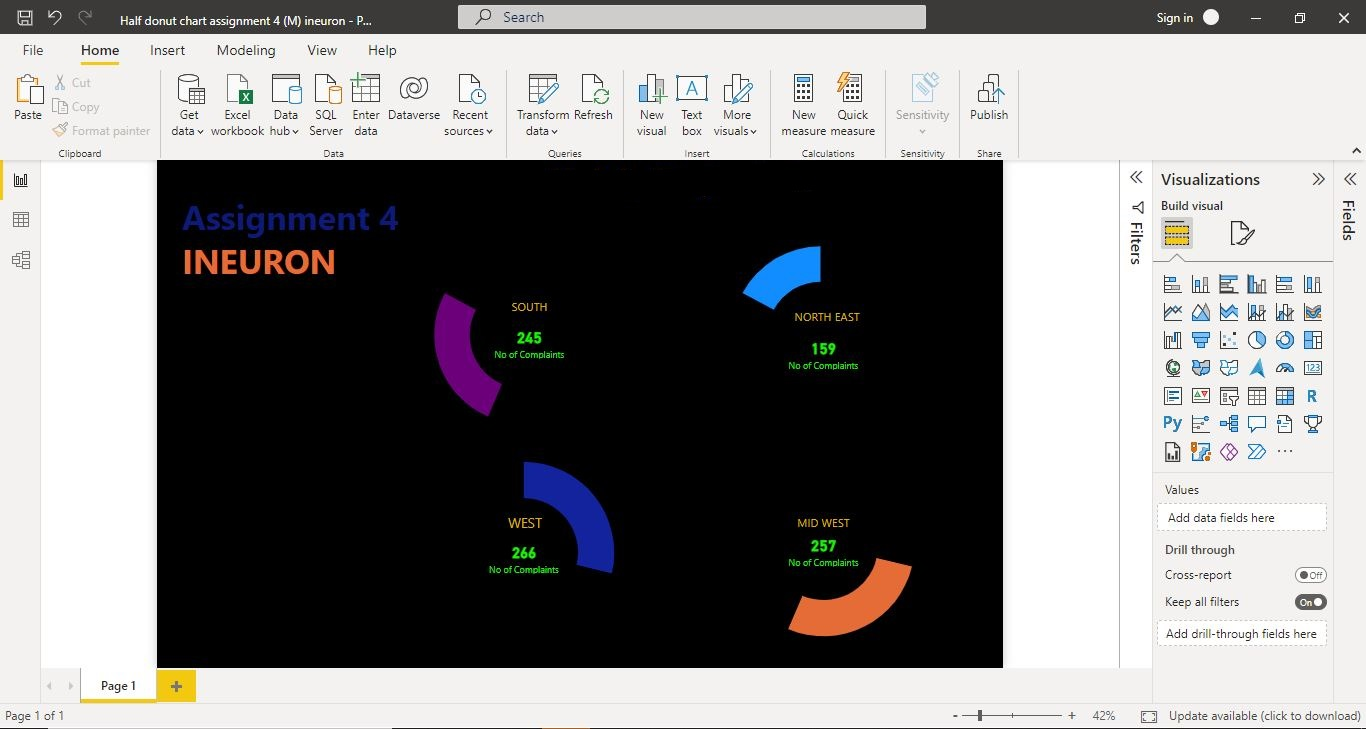

The page's visual inventory and layout, read from the dashboard file:
{"tool":"powerbi","page":{"name":"Page 1","canvas":[2000,1200],"ordinal":0},"visuals":[{"type":"donutChart","fields":{"Y":["CountNonNull(Complains Data.ID)"],"Category":["StateRegions_Tbl.Region"]},"box":[1164.6,146.5,805.5,533.9],"z":0},{"type":"donutChart","fields":{"Y":["CountNonNull(Complains Data.ID)"],"Category":["StateRegions_Tbl.Region"]},"box":[559.8,654.3,611.8,545.7],"z":1000},{"type":"donutChart","fields":{"Y":["CountNonNull(Complains Data.ID)"],"Category":["StateRegions_Tbl.Region"]},"box":[1171.7,637.8,805.5,545.7],"z":2000},{"type":"donutChart","fields":{"Y":["CountNonNull(Complains Data.ID)"],"Category":["StateRegions_Tbl.Region"]},"box":[559.8,146.5,609.4,533.9],"z":3000},{"type":"shape","box":[1396.1,810.2,78,47.2],"z":4000},{"type":"textbox","box":[784.3,323.6,191.3,63.8],"z":5000},{"type":"card","fields":{"Values":["Complains Data.No of Complaints"]},"box":[784.3,387.4,191.3,87.4],"z":6000},{"type":"card","fields":{"Values":["Complains Data.No of Complaints"]},"box":[1466.9,878.7,215,87.4],"z":7000},{"type":"card","fields":{"Values":["Complains Data.No of Complaints"]},"box":[758.3,895.3,217.3,87.4],"z":8000},{"type":"textbox","box":[784.3,829.1,170.1,82.7],"z":9000},{"type":"textbox","box":[1457.5,833.9,233.9,61.4],"z":10000},{"type":"textbox","box":[1497.6,347.2,170.1,63.8],"z":11000},{"type":"shape","box":[1396.1,474.8,103.9,82.7],"z":12000},{"type":"shape","box":[758.3,1058.3,78,42.5],"z":13000},{"type":"shape","box":[640.2,777.2,118.1,101.6],"z":14000},{"type":"shape","box":[1379.5,807.9,78,47.2],"z":15000},{"type":"shape","box":[1523.6,680.3,103.9,113.4],"z":16000},{"type":"shape","box":[975.6,413.4,103.9,82.7],"z":18000},{"type":"shape","box":[718.1,1032.3,148.8,118.1],"z":19000},{"type":"shape","box":[1459.8,517.3,78,103.9],"z":20000},{"type":"card","fields":{"Values":["Complains Data.No of Complaints"]},"box":[1478.7,413.4,191.3,87.4],"z":21000},{"type":"shape","box":[1681.9,413.4,108.7,89.8],"z":22000},{"type":"textbox","box":[54.3,73.2,536.2,463],"z":23000}]}

Visuals, with their boxes on the page's 2000x1200 design canvas (x1, y1, x2, y2). These are canvas units, not pixel positions in the 1366x729 screenshot, which may show the page scaled, cropped or inside an application window:
donutChart - CountNonNull(Complains Data.ID) x StateRegions_Tbl.Region: (1165,146,1970,680)
donutChart - CountNonNull(Complains Data.ID) x StateRegions_Tbl.Region: (560,654,1172,1200)
donutChart - CountNonNull(Complains Data.ID) x StateRegions_Tbl.Region: (1172,638,1977,1184)
donutChart - CountNonNull(Complains Data.ID) x StateRegions_Tbl.Region: (560,146,1169,680)
shape: (1396,810,1474,857)
textbox: (784,324,976,387)
card - Complains Data.No of Complaints: (784,387,976,475)
card - Complains Data.No of Complaints: (1467,879,1682,966)
card - Complains Data.No of Complaints: (758,895,976,983)
textbox: (784,829,954,912)
textbox: (1458,834,1691,895)
textbox: (1498,347,1668,411)
shape: (1396,475,1500,558)
shape: (758,1058,836,1101)
shape: (640,777,758,879)
shape: (1380,808,1458,855)
shape: (1524,680,1628,794)
shape: (976,413,1080,496)
shape: (718,1032,867,1150)
shape: (1460,517,1538,621)
card - Complains Data.No of Complaints: (1479,413,1670,501)
shape: (1682,413,1791,503)
textbox: (54,73,590,536)
